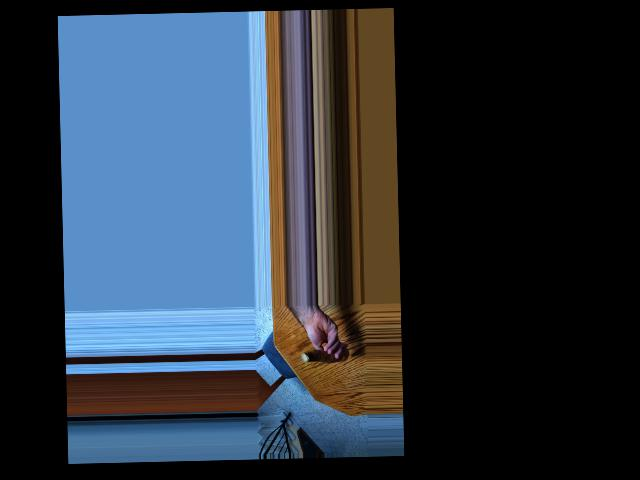sweet_potato: (300, 343, 350, 364)
